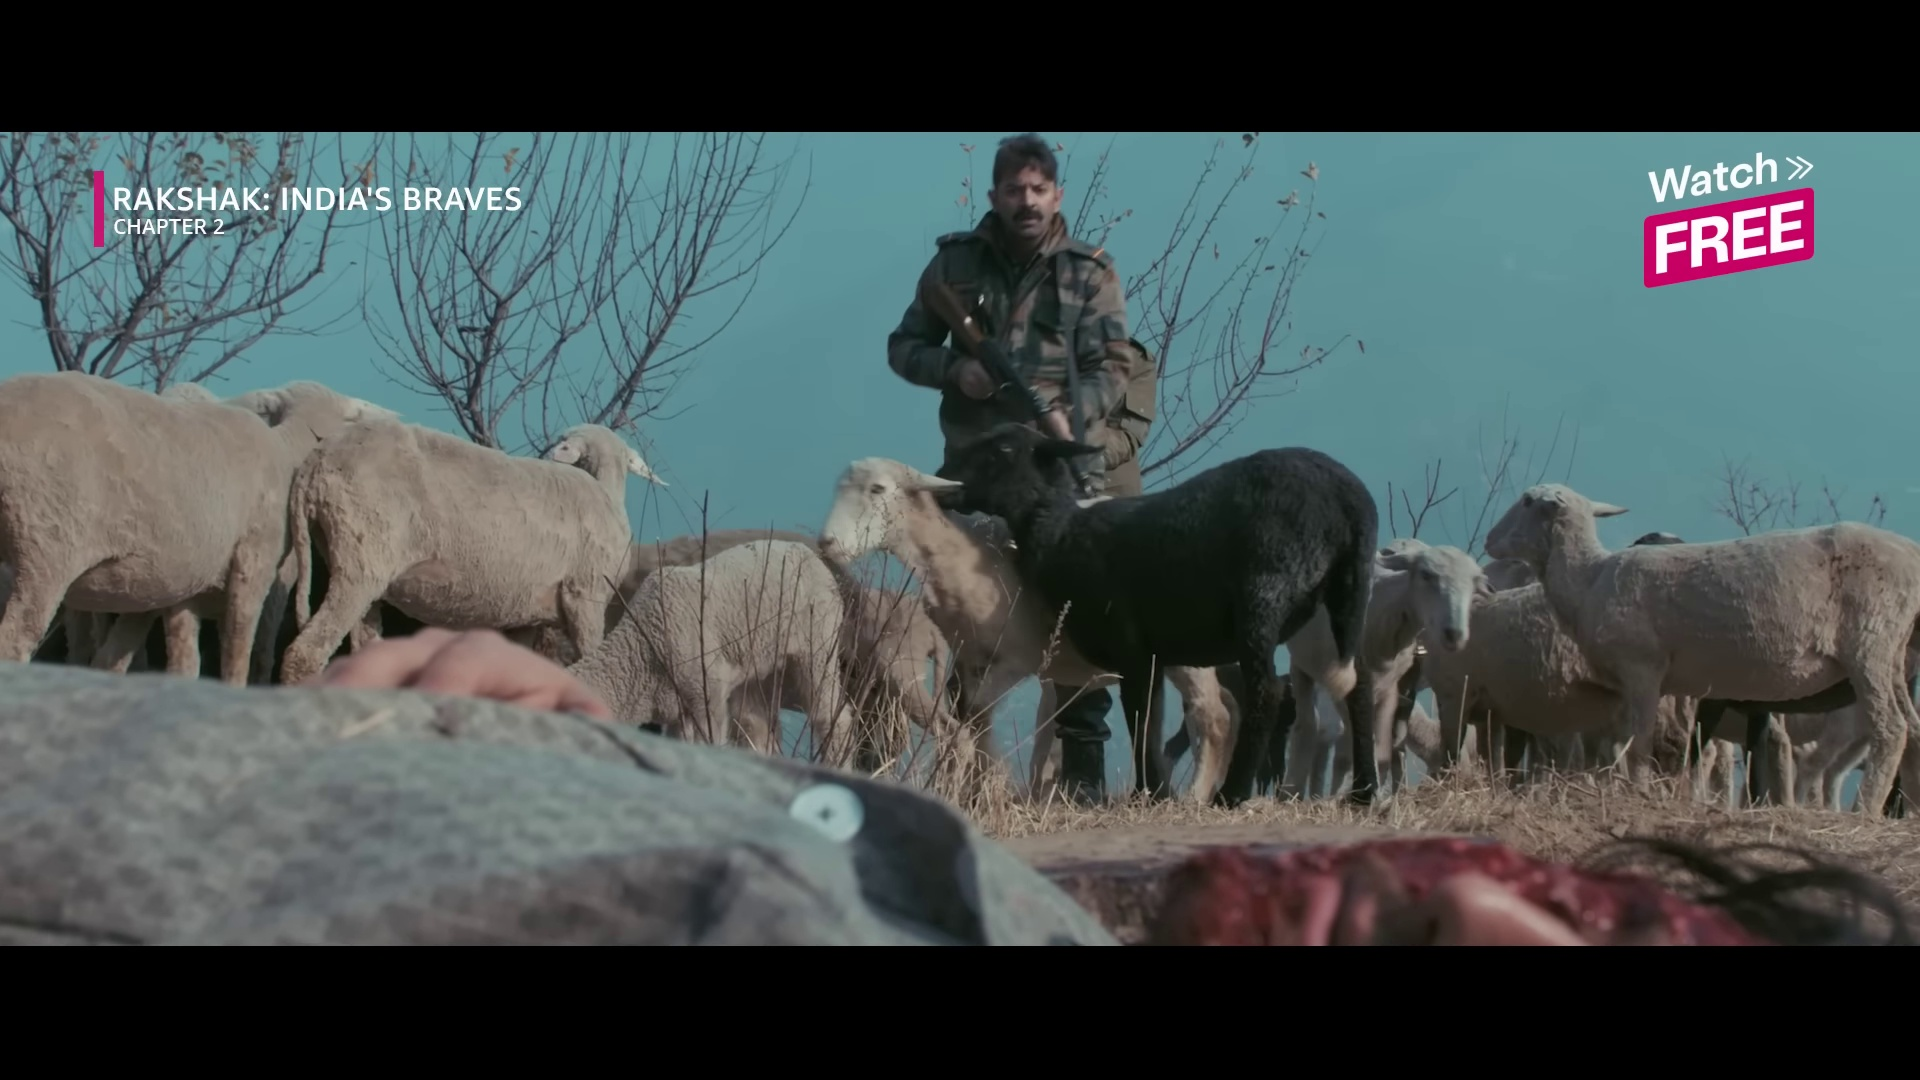gun: (914, 269, 1097, 497)
p_w_gun: (886, 128, 1156, 815)
